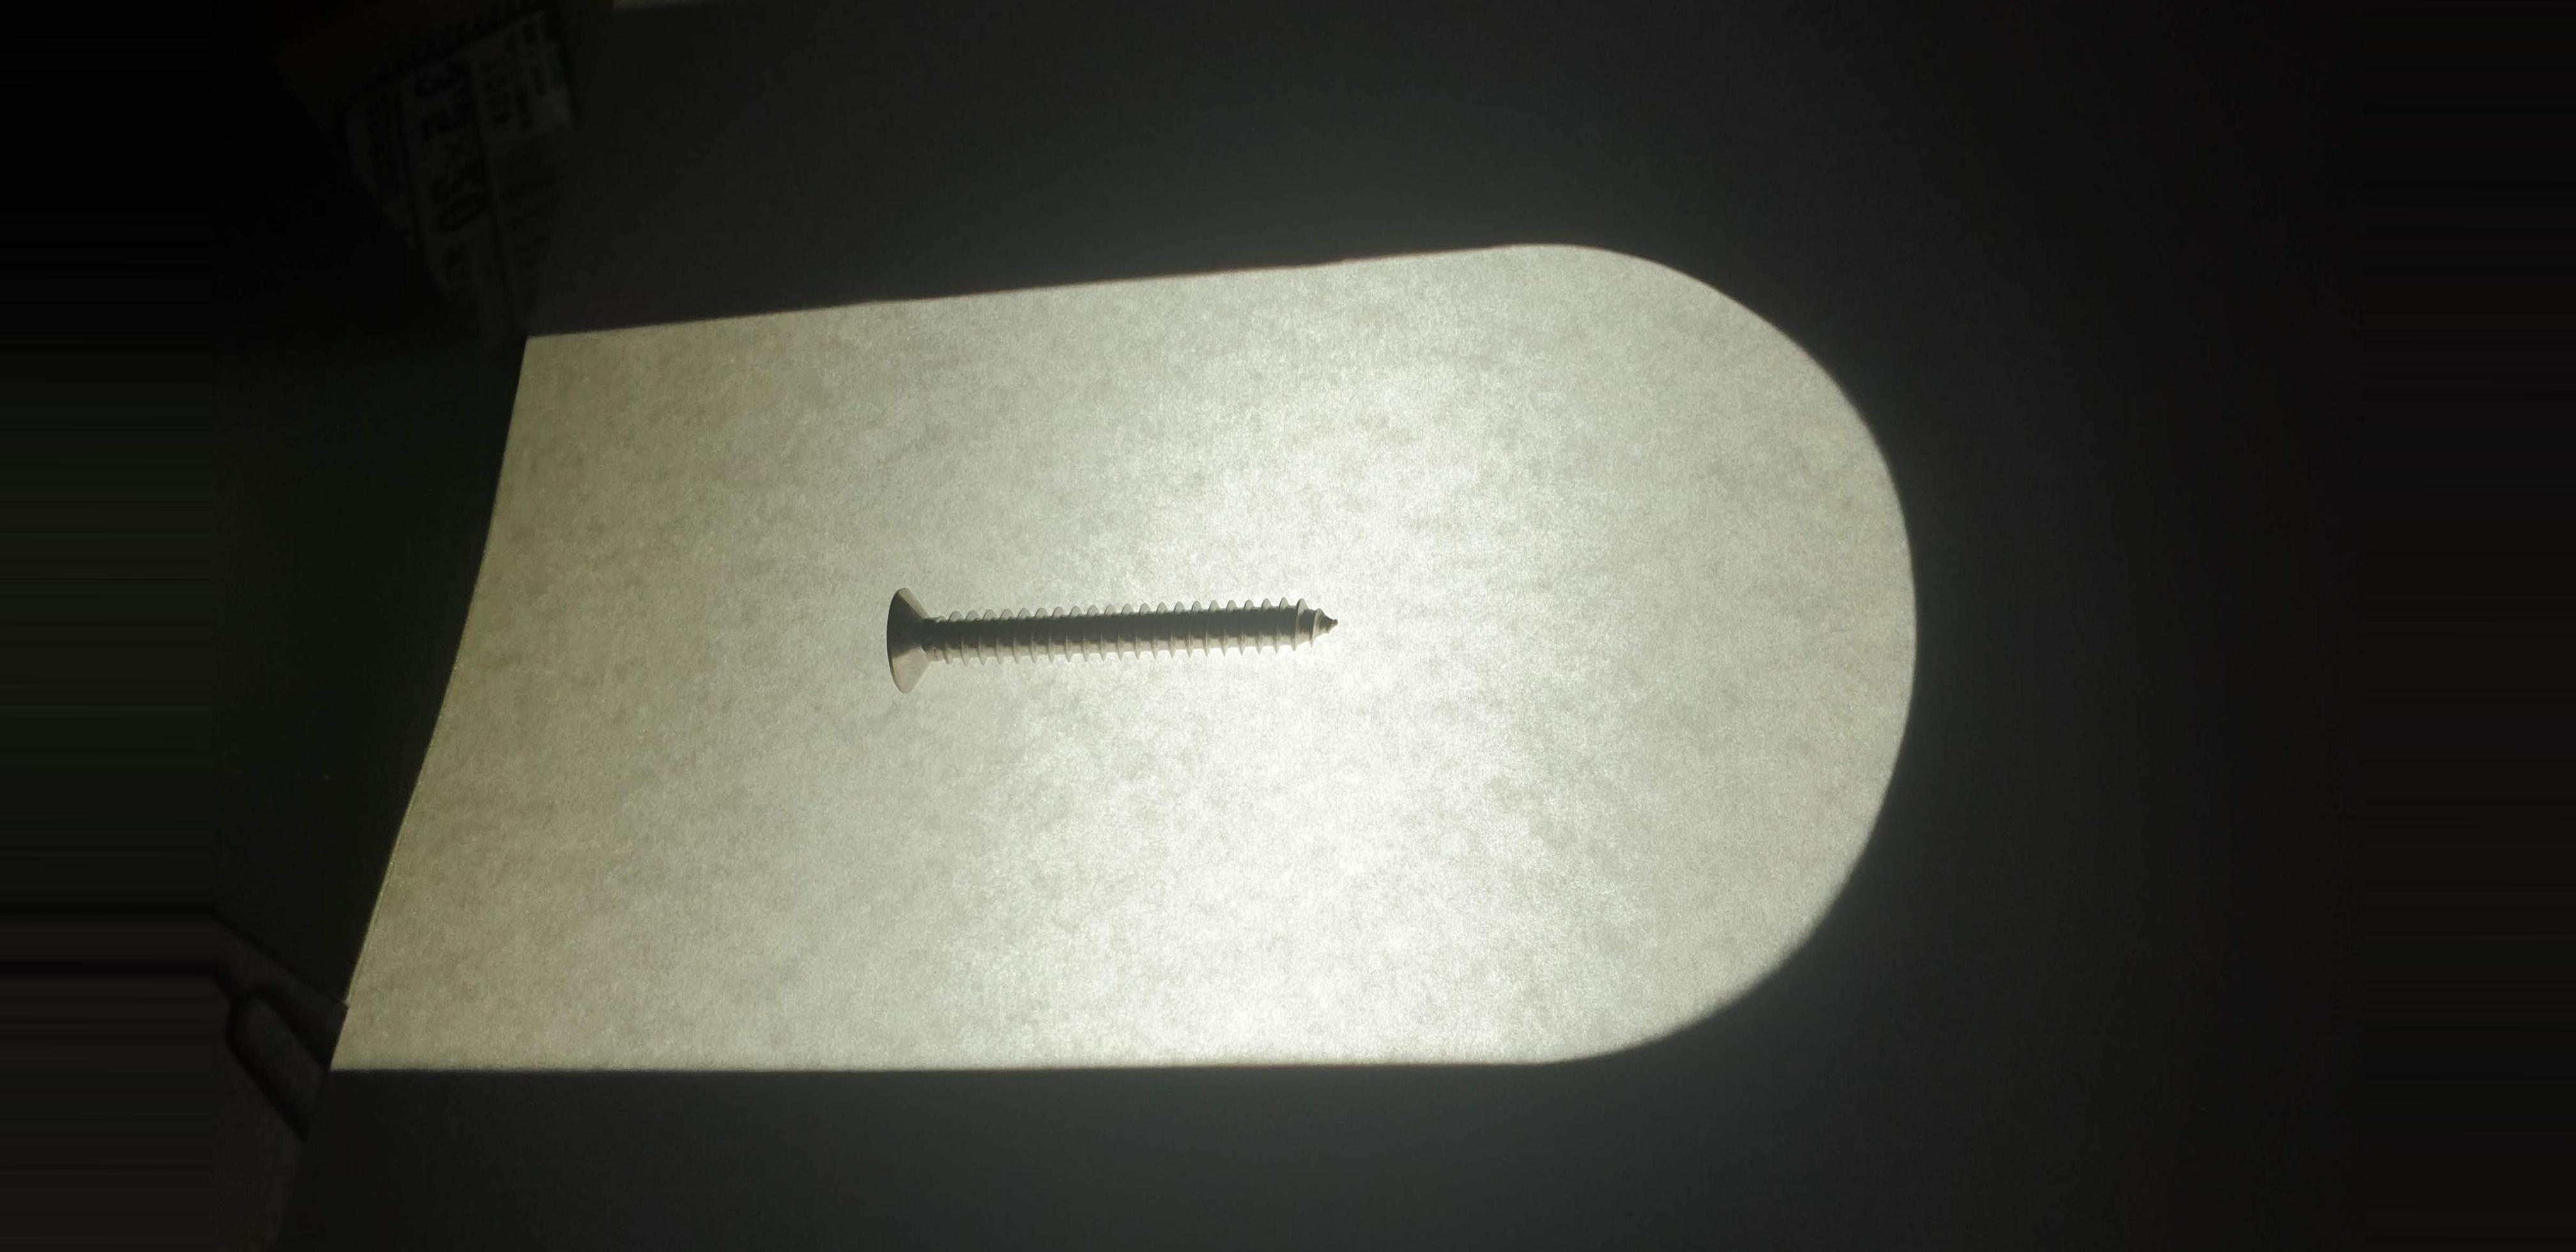S001: (851, 572, 1370, 708)
